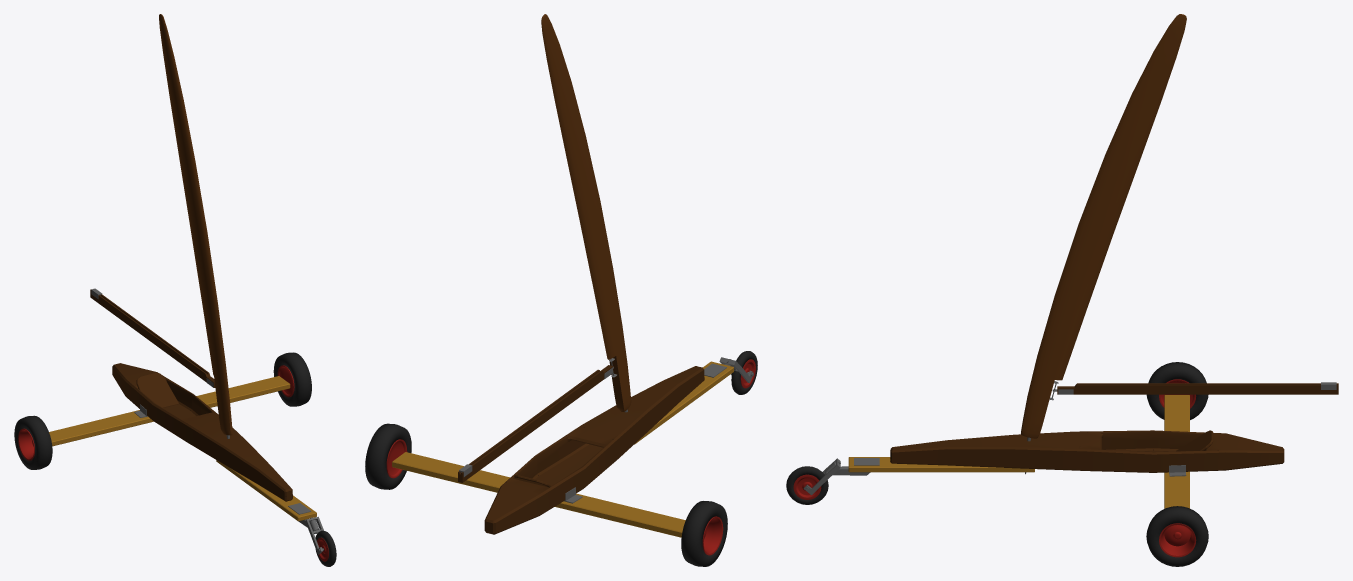
File: duvel.obj
3 views of the same model, side by side, from view 1: azimuth 30°, elevation 25°; view 2: azimuth 150°, elevation 25°; view 3: azimuth 270°, elevation 25° (orthographic). The views are drawn at different scales.
Parts seen in each view (by area): view 1: Body, Mast, Achterloper, Giek, Band.001, Band.002, Rugsteun, Voorloper, Velg.001; view 2: Body, Mast, Achterloper, Giek, Band.001, Band.002, Voorloper, Velg.001, Band; view 3: Mast, Body, Giek, Band.002, Achterloper, Voorloper, Band.001, Velg, Band.
Boxes of the visible parts, x1,y1,x2,y2 form: Body: [112, 363, 292, 501]; Mast: [159, 14, 232, 435]; Achterloper: [49, 376, 290, 446]; Giek: [90, 289, 215, 387]; Band.001: [14, 415, 52, 469]; Band.002: [273, 352, 311, 406]; Rugsteun: [136, 372, 178, 407]; Voorloper: [216, 460, 316, 521]; Velg.001: [18, 428, 34, 460]; Body: [484, 366, 704, 534]; Mast: [541, 14, 631, 411]; Achterloper: [392, 452, 685, 537]; Giek: [458, 365, 613, 482]; Band.001: [681, 501, 727, 566]; Band.002: [365, 423, 411, 489]; Voorloper: [634, 361, 733, 444]; Velg.001: [702, 516, 723, 555]; Band: [731, 351, 757, 394]; Mast: [1021, 14, 1186, 438]; Body: [890, 430, 1284, 472]; Giek: [1057, 383, 1338, 394]; Band.002: [1146, 506, 1208, 566]; Achterloper: [1164, 395, 1189, 508]; Voorloper: [848, 457, 1034, 472]; Band.001: [1146, 362, 1208, 419]; Velg: [1159, 523, 1196, 557]; Band: [786, 466, 828, 504].
Size of the model in its own units: 2.75 by 4.15 by 4.23.
1 material, 1 textured.
